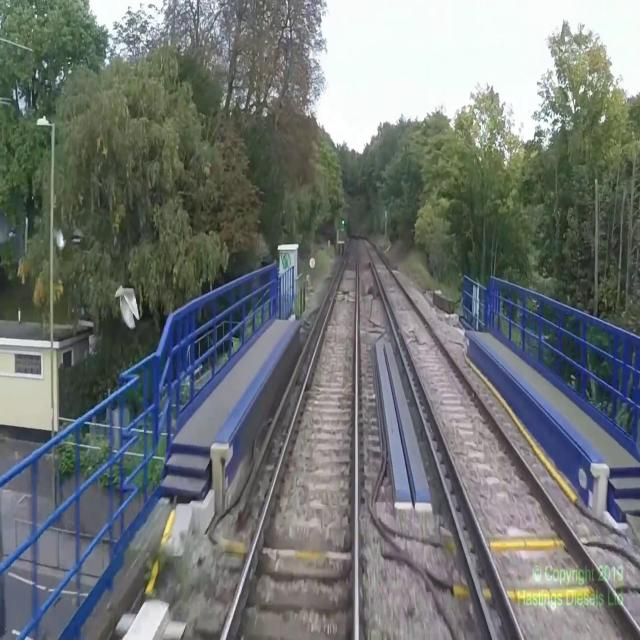rail-track: (362, 238, 640, 639), (225, 236, 357, 639)
